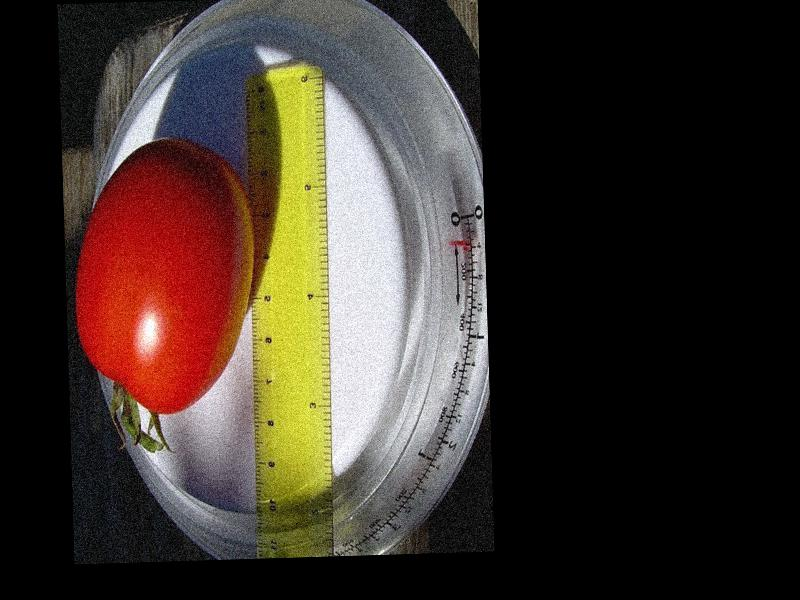Tomato: (69, 137, 263, 418)
